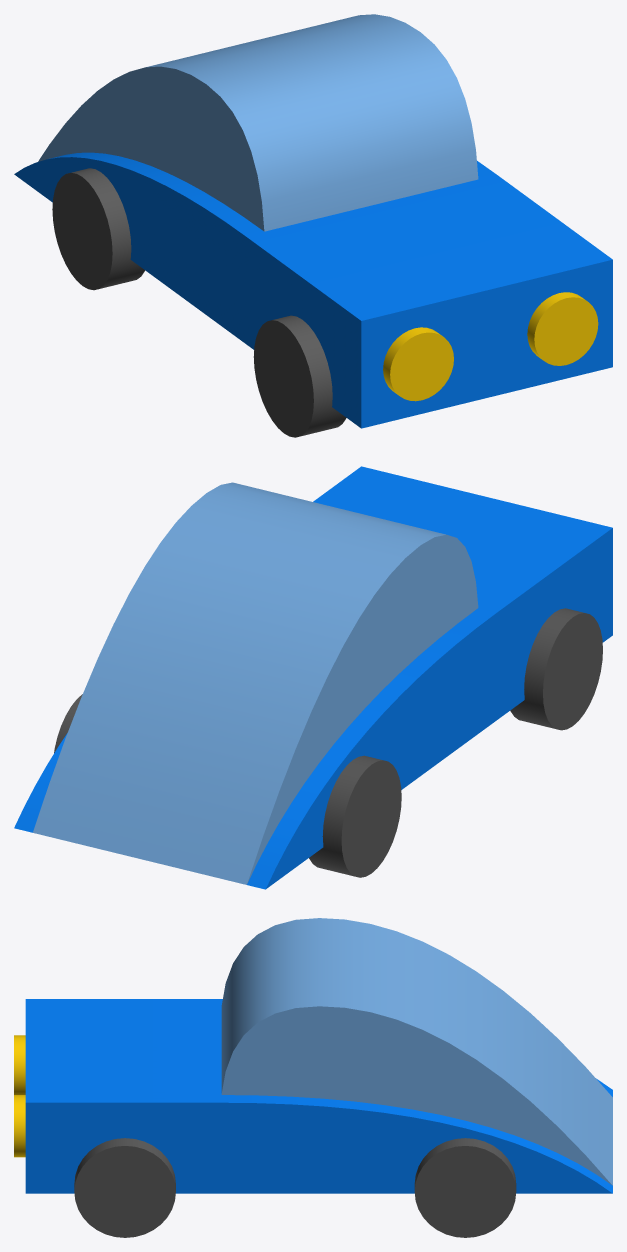
File: Car.fbx
3 views of the same model, one above another, from view 1: azimuth 30°, elevation 25°; view 2: azimuth 150°, elevation 25°; view 3: azimuth 270°, elevation 25° (orthographic). The views are drawn at different scales.
Visible parts, largest first — view 1: car; view 2: car; view 3: car.
Part boxes in pixels (box(x1,y1,x2,y2)): car: box(14, 14, 612, 437); car: box(14, 466, 612, 889); car: box(14, 918, 612, 1237).
Size of the model in its own units: 2.88 by 2.44 by 6.12.
